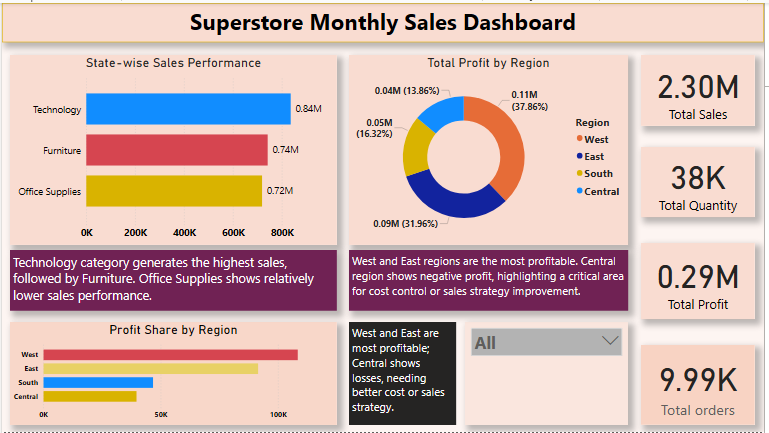

Layout of this report page (visuals, bound fields, positions):
{"tool":"powerbi","page":{"name":"Dashboard","canvas":[1280,720],"ordinal":0},"visuals":[{"type":"textbox","box":[0,0,1280,65.6],"z":1000},{"type":"card","fields":{"Values":["Sum(Sample___Superstore.Sales)"]},"box":[1073.4,87.3,191.5,119.3],"z":3000},{"type":"card","fields":{"Values":["Sum(Sample___Superstore.Profit)"]},"box":[1073.4,403.1,191.5,127.7],"z":4000},{"type":"card","fields":{"Values":["Sum(Sample___Superstore.Quantity)"]},"box":[1073.4,241.9,191.5,117.6],"z":5000},{"type":"barChart","title":"State-wise Sales Performance","fields":{"Category":["Sample___Superstore.Category"],"Y":["Sum(Sample___Superstore.Sales)"]},"box":[13.4,87.3,549.3,319.2],"z":6000},{"type":"donutChart","title":"Total Profit by Region","fields":{"Y":["Sum(Sample___Superstore.Profit)"],"Category":["Sample___Superstore.Region"]},"box":[582.9,87.3,468.7,319.2],"z":10003},{"type":"card","fields":{"Values":["CountNonNull(Sample___Superstore.Order ID)"]},"box":[1073.4,574.5,191.5,134.4],"z":10009},{"type":"textbox","box":[582.9,414.9,468.7,102.5],"z":10010},{"type":"textbox","box":[13.4,414.9,549.3,102.5],"z":10011},{"type":"slicer","fields":{"Values":["Sample___Superstore.Region"]},"box":[777.7,535.9,273.8,173],"z":10013},{"type":"barChart","title":"Profit Share by Region","fields":{"Y":["Sum(Sample___Superstore.Profit)"],"Category":["Sample___Superstore.Region"]},"box":[13.4,535.9,549.3,173],"z":10014},{"type":"textbox","box":[582.9,535.9,179.7,173],"z":10015}]}

Visuals, with their boxes in screenshot pixels (x1, y1, x2, y2), scaled from the page's 1280x720 canvas onto the 769x433 screenshot:
textbox: [x1=0, y1=0, x2=768, y2=39]
card - Sum(Sample___Superstore.Sales): [x1=645, y1=53, x2=760, y2=124]
card - Sum(Sample___Superstore.Profit): [x1=645, y1=242, x2=760, y2=319]
card - Sum(Sample___Superstore.Quantity): [x1=645, y1=145, x2=760, y2=216]
"State-wise Sales Performance" barChart: [x1=8, y1=53, x2=338, y2=244]
"Total Profit by Region" donutChart: [x1=350, y1=53, x2=632, y2=244]
card - CountNonNull(Sample___Superstore.Order ID): [x1=645, y1=345, x2=760, y2=426]
textbox: [x1=350, y1=250, x2=632, y2=311]
textbox: [x1=8, y1=250, x2=338, y2=311]
slicer - Sample___Superstore.Region: [x1=467, y1=322, x2=632, y2=426]
"Profit Share by Region" barChart: [x1=8, y1=322, x2=338, y2=426]
textbox: [x1=350, y1=322, x2=458, y2=426]
